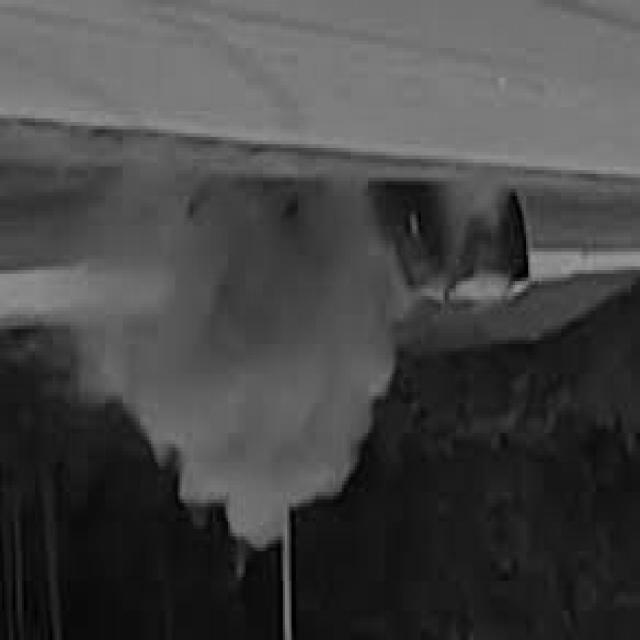severe: (386, 184, 532, 314)
